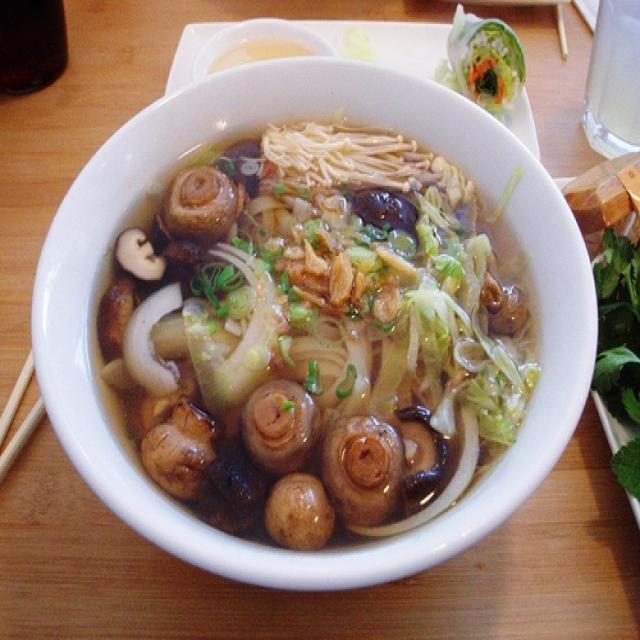面条主食: (32, 48, 603, 585)
